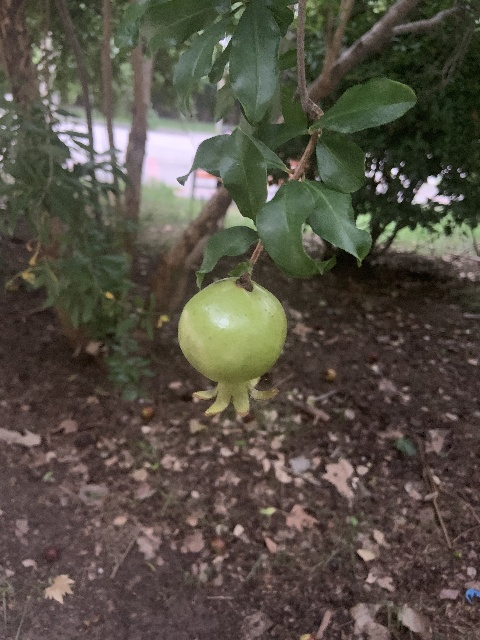mid-growth: (177, 277, 287, 418)
